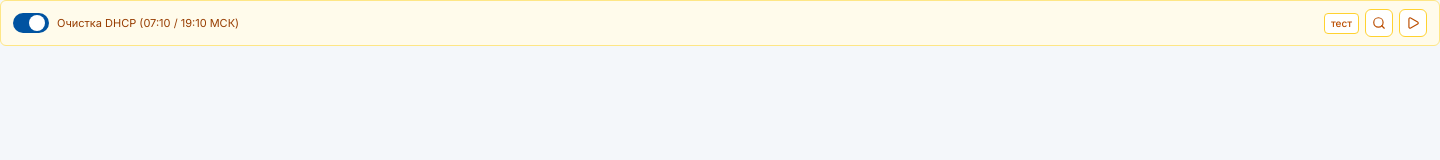
Scenario: SwitchDhcpPanel › explains why nothing would be cleared when the switch is not the DHCP server
Click the button named "Диагностика DHCP" at (1379, 23), box [1365, 9, 1393, 37]
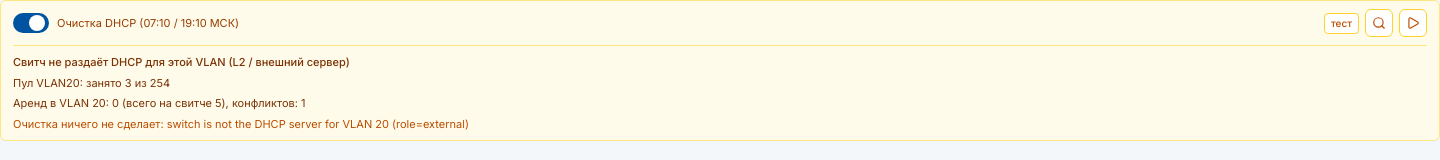
Now the text "Очистка ничего не сделает" is shown, box [13, 116, 167, 130]
